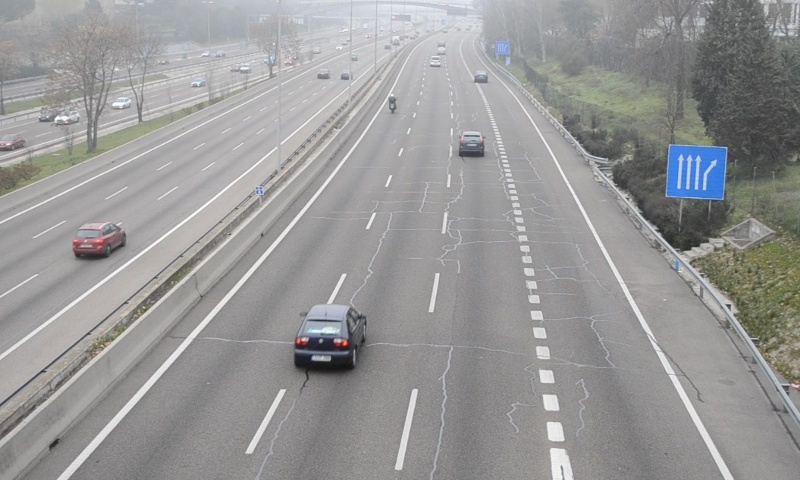car: (294, 306, 367, 370), (459, 131, 484, 158), (473, 70, 488, 83)
motorcycle: (387, 93, 397, 116)
